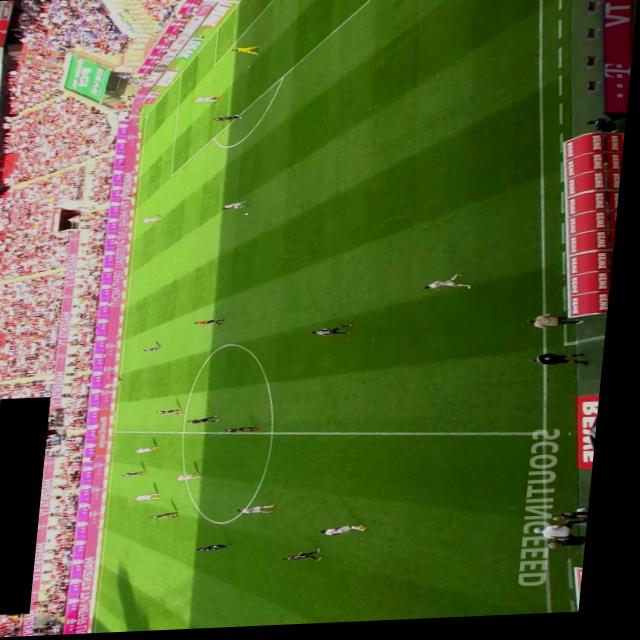goalkeeper: (231, 47, 263, 58)
player: (430, 277, 479, 294), (317, 325, 360, 339), (330, 527, 379, 539), (293, 552, 334, 565), (247, 506, 286, 517), (196, 415, 228, 426), (225, 202, 254, 213), (206, 546, 243, 554), (232, 428, 269, 436), (160, 512, 190, 521), (184, 474, 212, 483), (142, 494, 171, 502), (215, 116, 244, 123), (195, 97, 224, 104), (164, 410, 192, 417), (111, 381, 132, 390), (145, 216, 167, 224), (143, 447, 168, 454), (131, 471, 156, 478), (146, 347, 169, 354)
referee: (200, 320, 231, 327), (122, 193, 142, 199)
